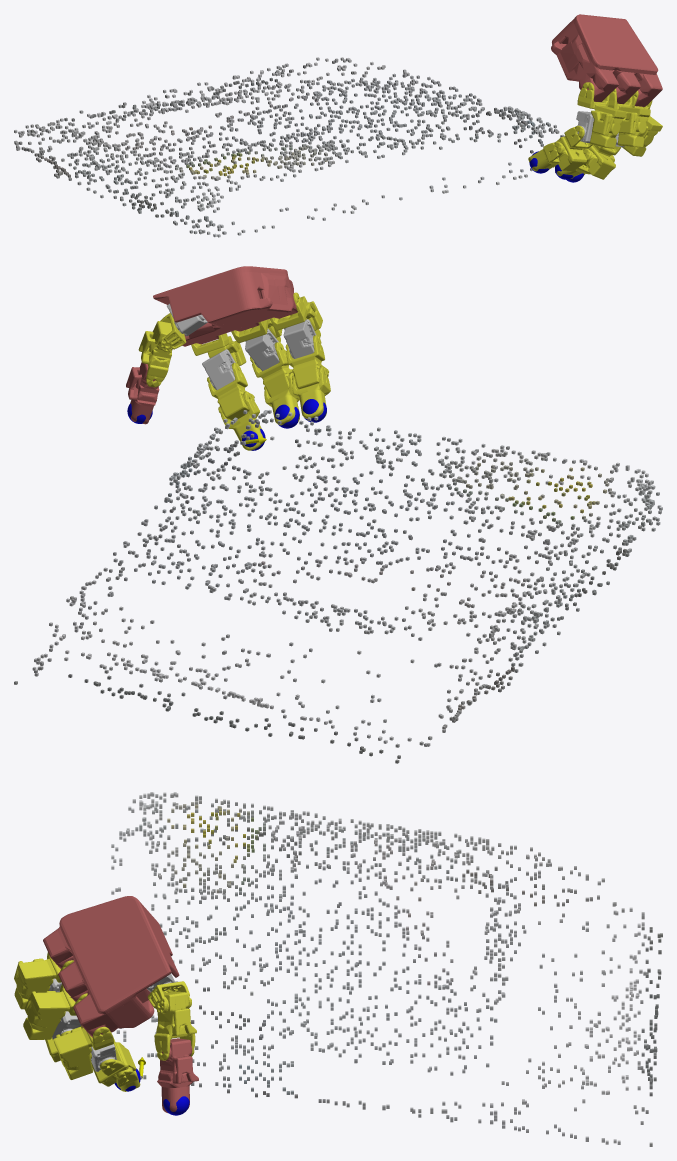
The model's file is hand_opt_res_obj.glb.
The picture shows the model from 3 angles, top to bottom: view 1: azimuth 30°, elevation 25°; view 2: azimuth 150°, elevation 25°; view 3: azimuth 270°, elevation 25°; orthographic projection. The views are drawn at different scales.
Parts seen in each view (by area): view 1: world; view 2: world; view 3: world.
Boxes of the visible parts, bbox=[...] form: world: bbox=[14, 14, 662, 237]; world: bbox=[14, 266, 662, 763]; world: bbox=[14, 792, 662, 1146].
Size of the model in its own units: 0.6423 by 0.2787 by 0.6359.
